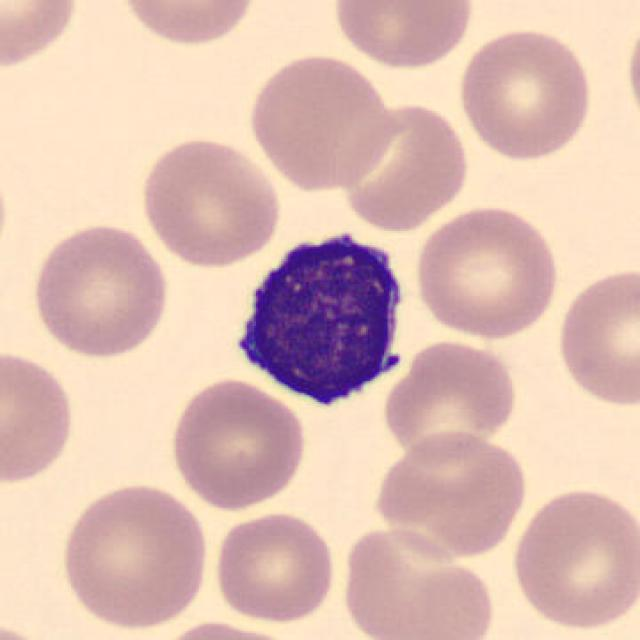Lymphocyte: (220, 217, 418, 416)
RBC: (55, 478, 212, 631), (244, 49, 398, 194), (411, 201, 564, 342), (372, 425, 530, 561), (26, 218, 172, 362), (135, 132, 285, 270), (166, 374, 310, 513), (507, 483, 638, 633), (455, 23, 596, 162), (338, 522, 498, 640), (336, 97, 473, 233), (380, 335, 521, 462), (210, 508, 338, 624), (553, 263, 638, 409), (0, 346, 80, 488), (329, 0, 478, 71), (111, 0, 261, 49), (0, 0, 82, 72), (151, 615, 309, 640), (622, 4, 640, 140)
